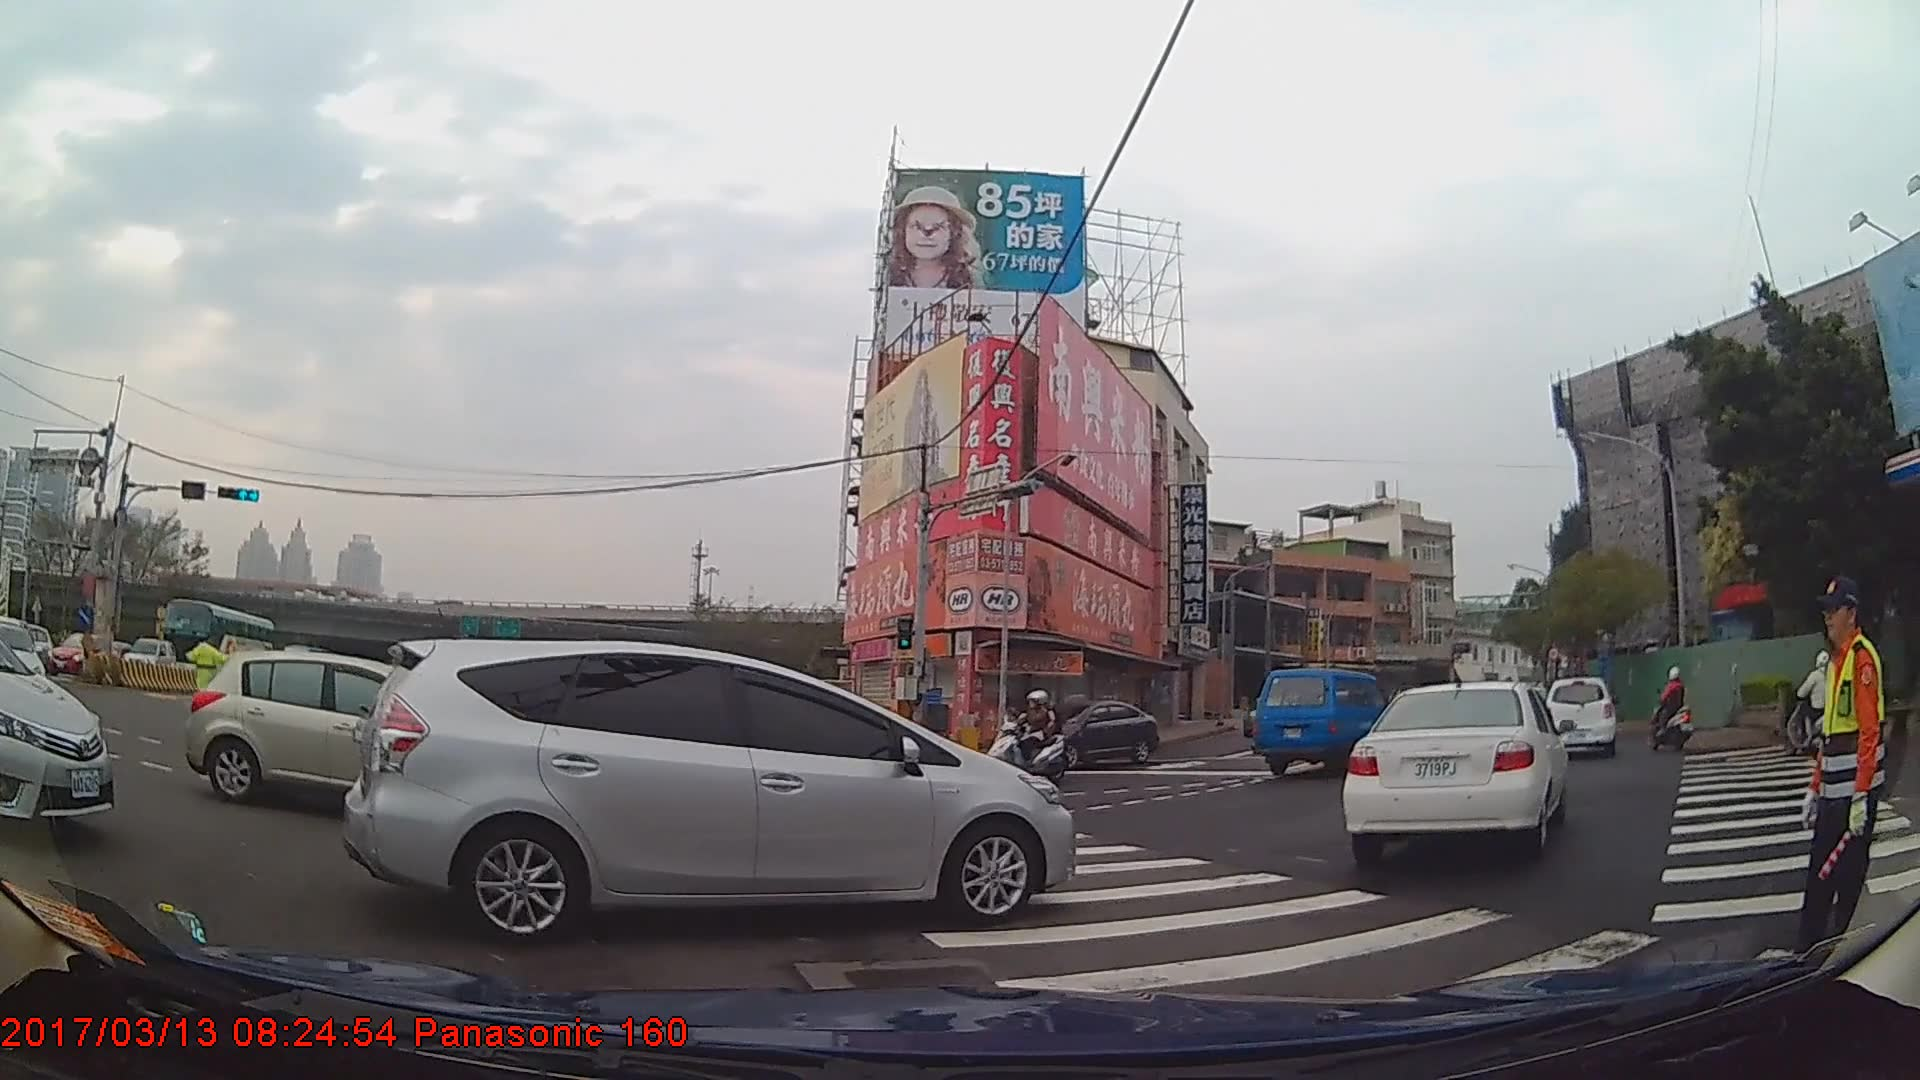pedestrian: (1800, 576, 1901, 985), (181, 628, 229, 730)
rider: (987, 692, 1071, 777), (1788, 648, 1842, 754), (1650, 665, 1694, 750)
vehicle: (339, 629, 1077, 936), (186, 644, 477, 815), (1341, 680, 1571, 857), (0, 632, 117, 828), (1245, 664, 1387, 777), (158, 595, 275, 679), (1031, 694, 1155, 766), (1541, 673, 1613, 758), (43, 628, 123, 679), (119, 632, 171, 675)
